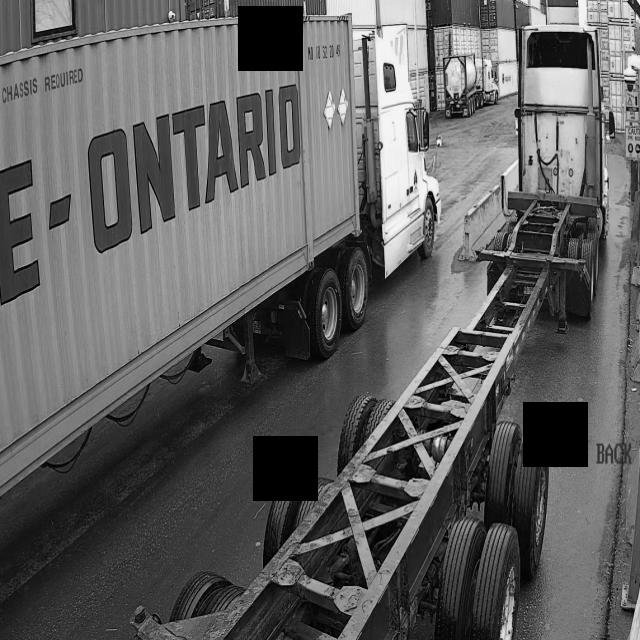container_company_logo: (133, 85, 300, 233)
driver: (620, 143, 634, 208)
truck_with_container: (2, 10, 457, 500), (424, 44, 510, 127)
truck_without_container: (133, 25, 609, 640)
